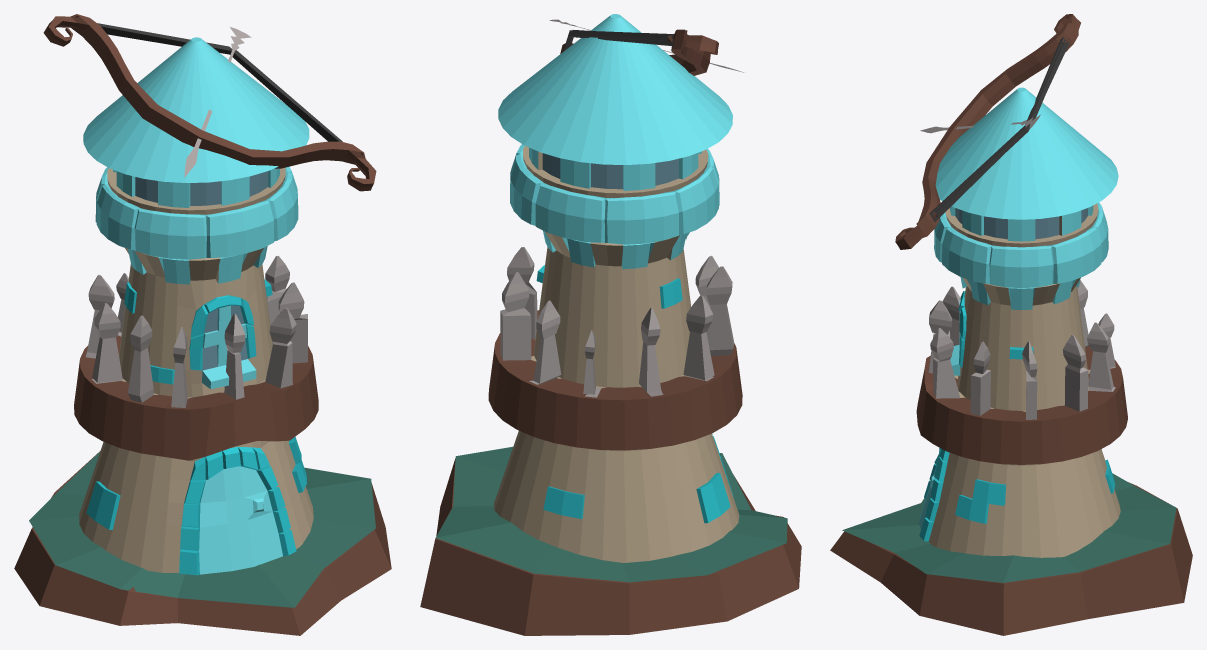
File: ok_kule_hava.fbx
The picture shows the model from 3 angles, left to right: view 1: azimuth 30°, elevation 25°; view 2: azimuth 150°, elevation 25°; view 3: azimuth 270°, elevation 25°; orthographic projection. The views are drawn at different scales.
Parts seen in each view (by area): view 1: Cylinder.017, cımen.016, Circle.015, Plane.004, Plane.006; view 2: Cylinder.017, Circle.015, cımen.016, Plane.004; view 3: Cylinder.017, Circle.015, cımen.016, Plane.004.
Boxes of the visible parts, x1,y1,x2,y2 form: Cylinder.017: [74, 37, 318, 575]; cımen.016: [29, 451, 375, 607]; Circle.015: [14, 451, 391, 635]; Plane.004: [43, 14, 376, 191]; Plane.006: [184, 27, 251, 177]; Cylinder.017: [488, 14, 742, 562]; Circle.015: [420, 458, 801, 635]; cımen.016: [435, 446, 787, 582]; Plane.004: [560, 29, 718, 75]; Cylinder.017: [916, 87, 1127, 557]; Circle.015: [830, 482, 1192, 635]; cımen.016: [842, 473, 1176, 582]; Plane.004: [895, 14, 1080, 249].
Bounding box in the file's own units: 488 × 750 × 496.
